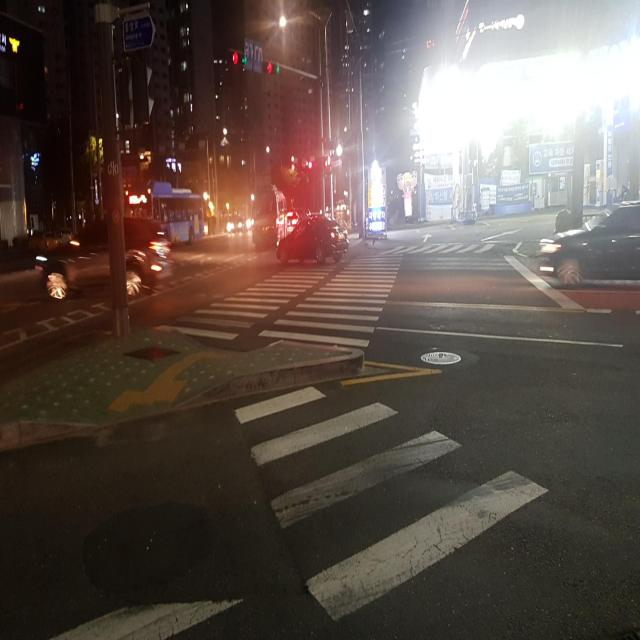횡단보도: (232, 382, 551, 628), (160, 248, 404, 333)
